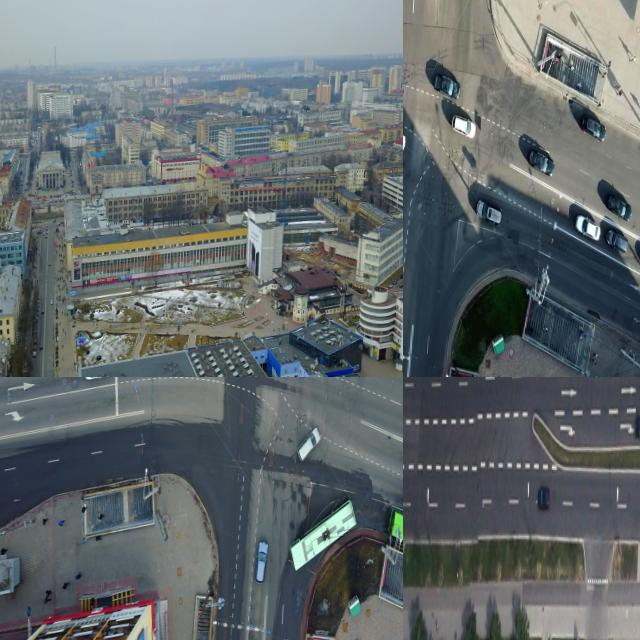UAI: (296, 425, 321, 462), (253, 538, 269, 586), (476, 197, 503, 225), (432, 72, 460, 98), (607, 194, 633, 221), (580, 115, 606, 141), (575, 215, 601, 241), (528, 151, 554, 177), (452, 114, 476, 140), (606, 229, 630, 253), (537, 486, 550, 510), (81, 377, 110, 383), (635, 414, 640, 437)
car: (289, 497, 359, 576)
